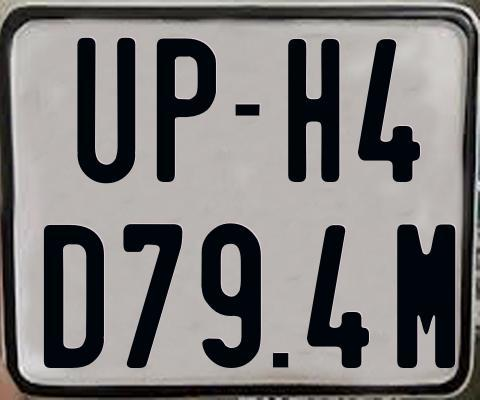4: (356, 38, 423, 186), (307, 223, 371, 367)
7: (123, 224, 187, 368)
9: (201, 221, 267, 366)
D: (43, 224, 109, 373)
H: (287, 37, 344, 184)
M: (397, 222, 461, 370)
P: (156, 36, 217, 180)
U: (76, 38, 140, 185)
